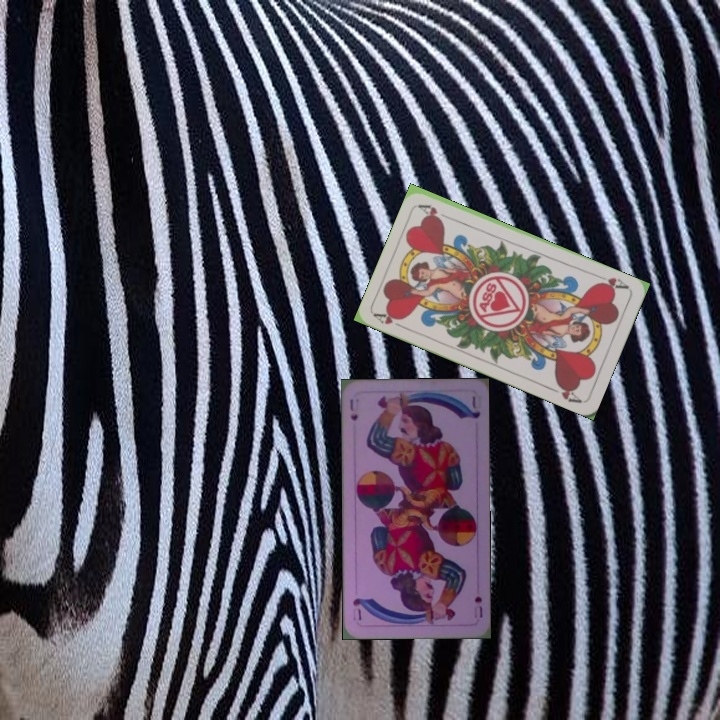HA: (371, 308, 410, 332), (592, 270, 631, 293)
SU: (470, 592, 485, 620), (346, 395, 360, 423)
